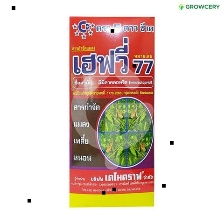insecticide: (66, 13, 156, 195)
